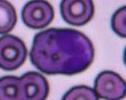E: (30, 28, 94, 74)
